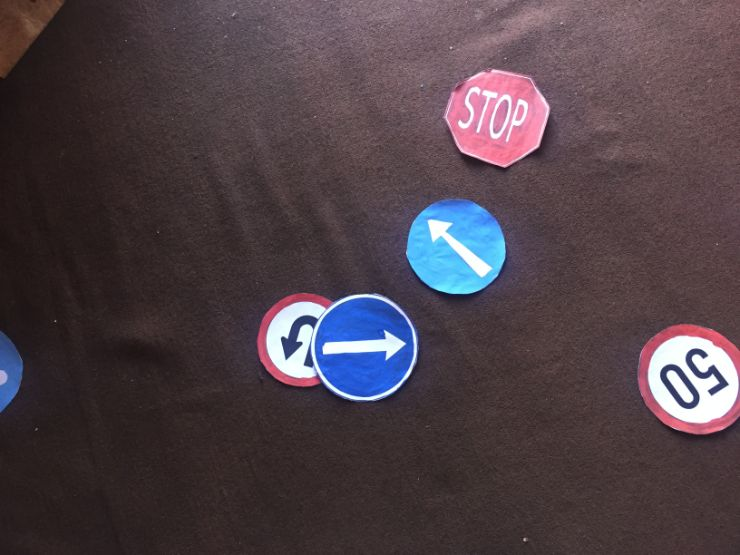go-stright: (314, 297, 415, 400)
keep-left: (408, 198, 506, 297)
speed-50: (636, 324, 740, 433)
stop: (443, 69, 554, 170)
u-turn: (256, 288, 315, 387)
